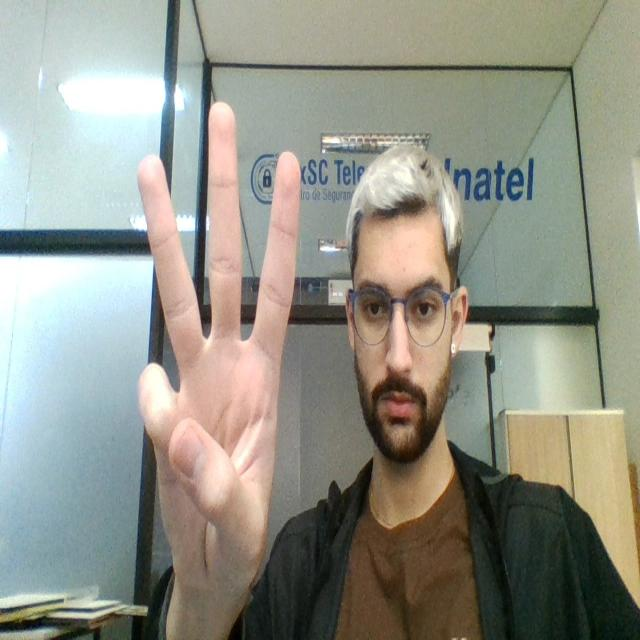W: (130, 87, 302, 603)
